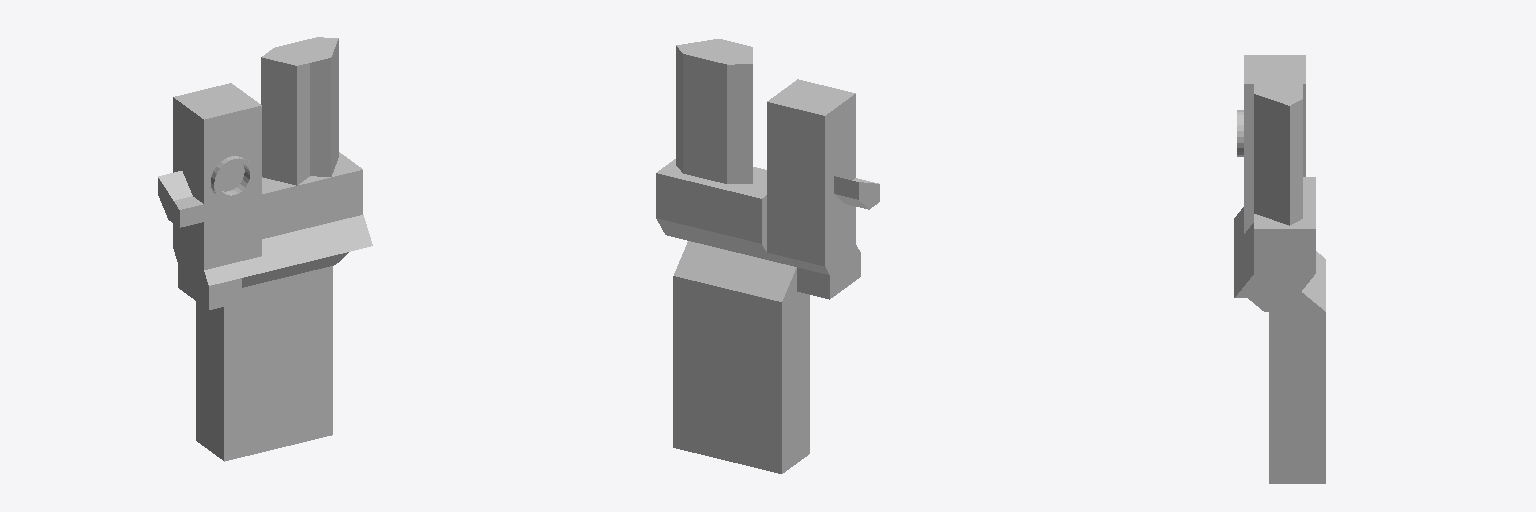
The model's file is bldn.obj.
3 views of the same model, side by side, from view 1: azimuth 30°, elevation 25°; view 2: azimuth 150°, elevation 25°; view 3: azimuth 270°, elevation 25° (orthographic).
Visible parts, largest first — view 1: Mesh1 Model; view 2: Mesh1 Model; view 3: Mesh1 Model.
Part boxes in pixels (bbox=[...]): Mesh1 Model: bbox=[158, 37, 372, 461]; Mesh1 Model: bbox=[656, 39, 879, 473]; Mesh1 Model: bbox=[1234, 55, 1325, 483].
Size of the model in its own units: 3.25 by 6.34 by 1.36.